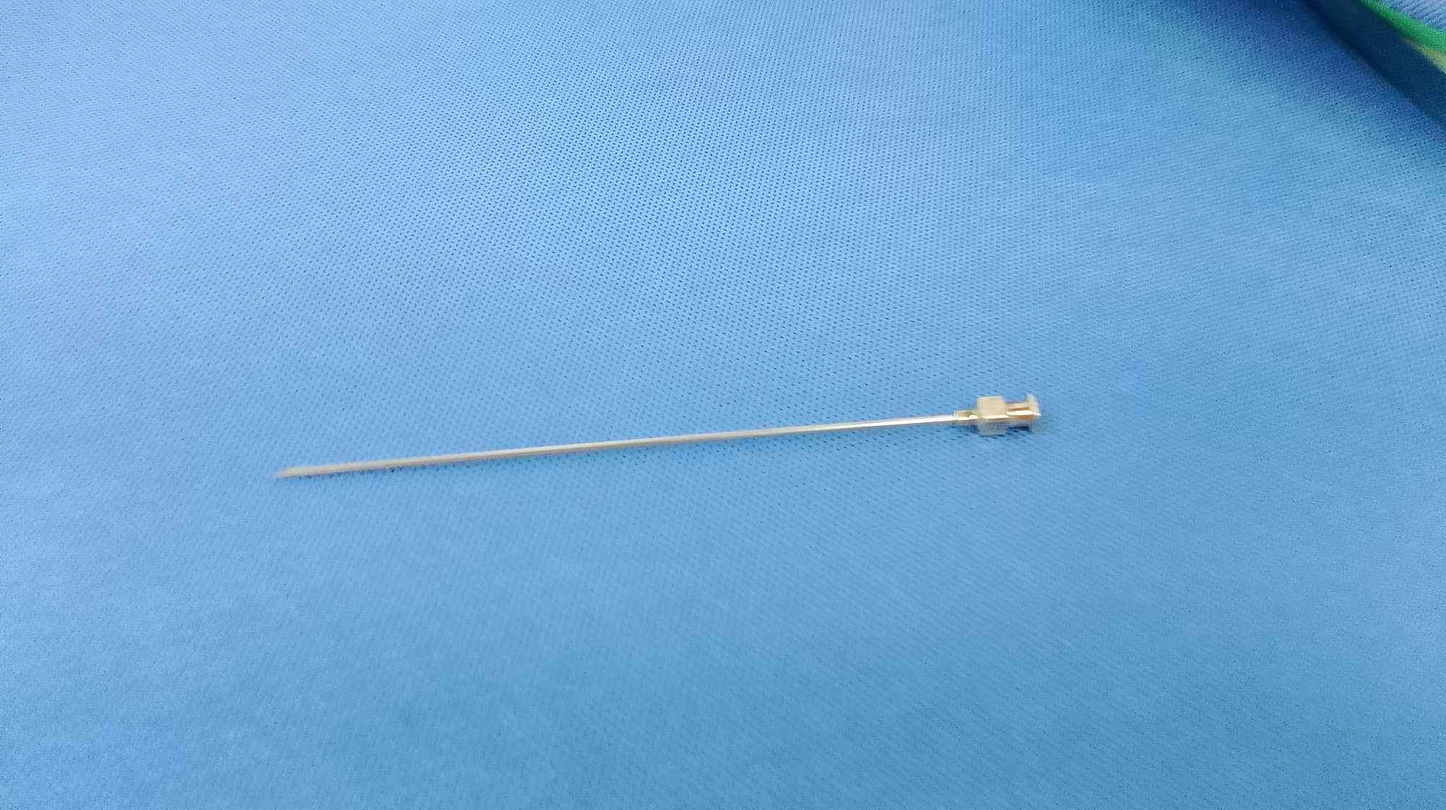Pathological: (5, 3, 1439, 805)
Sharps: (275, 390, 1043, 481)
